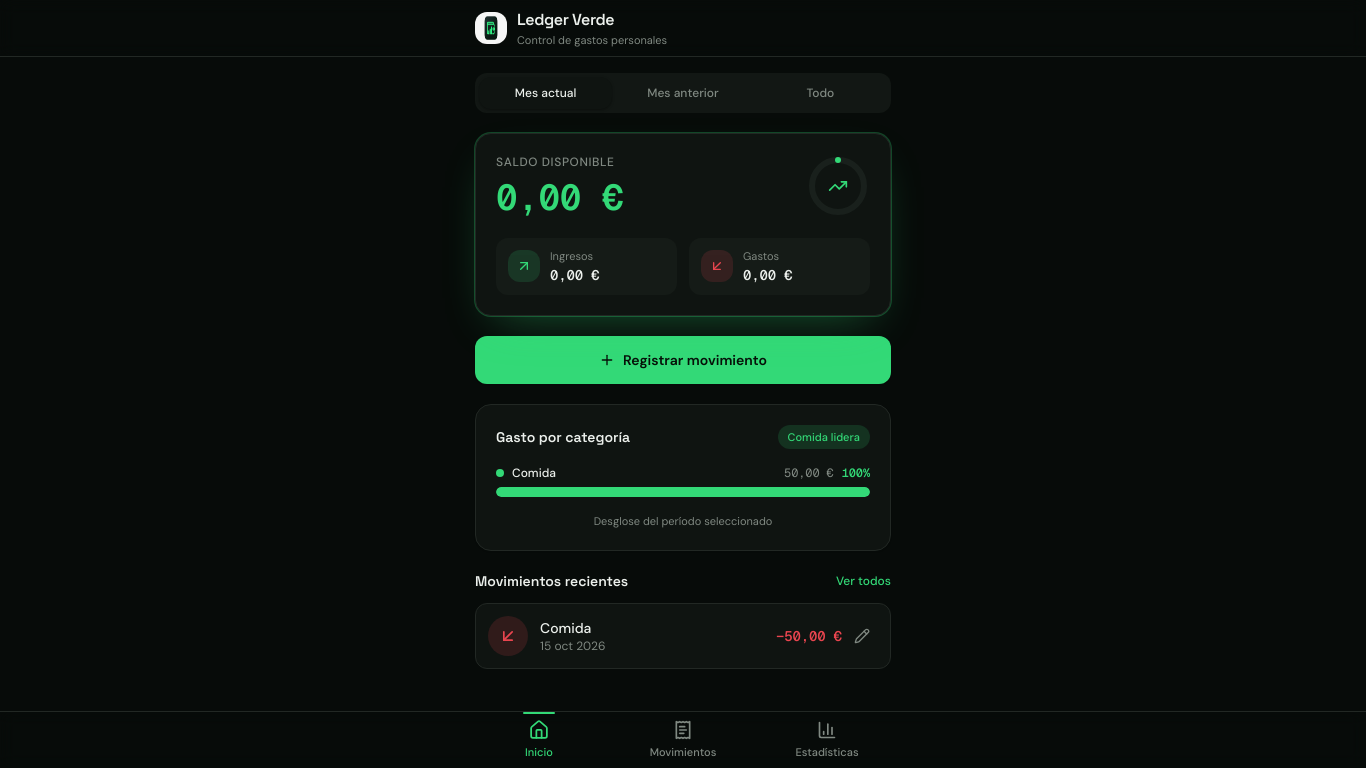
Scenario: Ledger Verde — flujo principal › navega entre Inicio, Movimientos y Estadísticas sin recargar
This screenshot has width=1366, height=768.
Expected: the element with test id "home.page" is shown, [475,73,891,668]
Click the button with test id "nav.movimientos.tab".
click(683, 740)  # box [611,712,755,767]
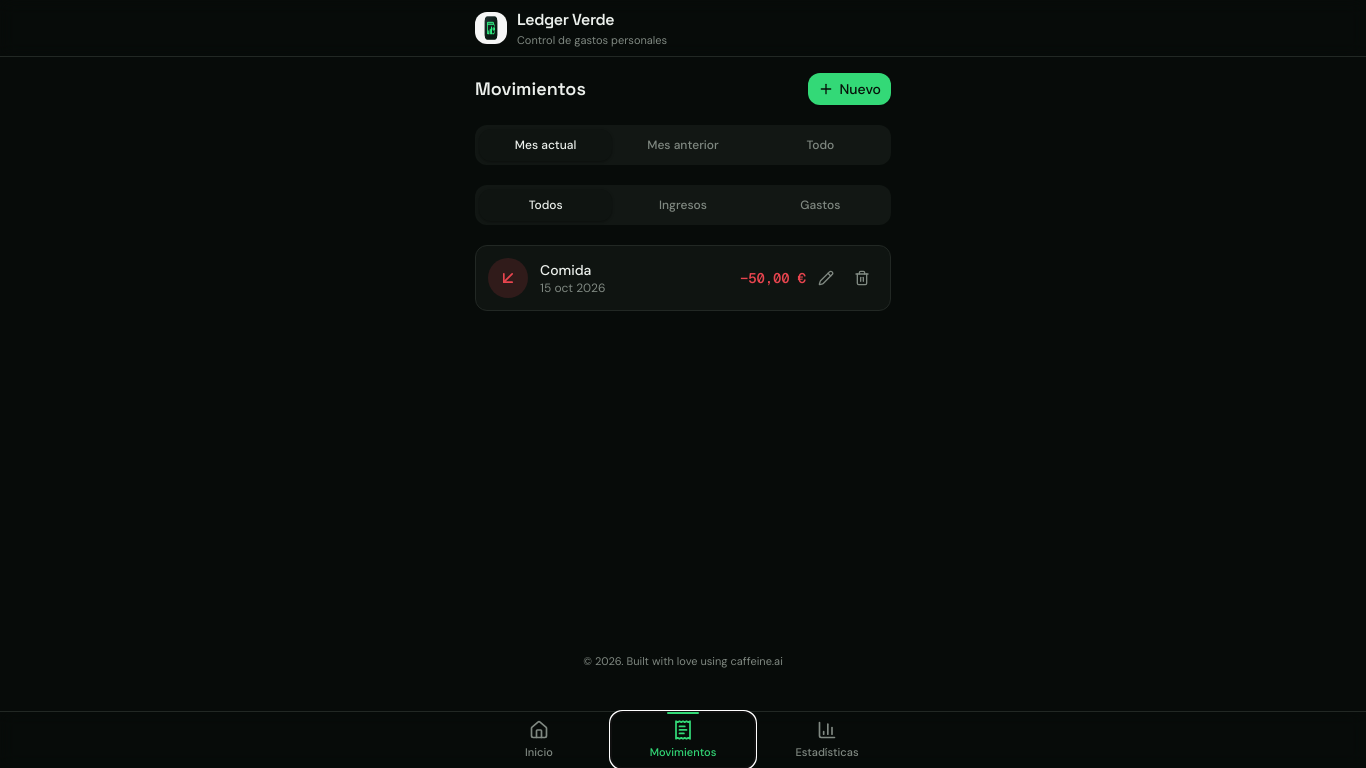
Now the list with test id "movements.list" is shown, box [475,245,891,311]
Click the button with test id "nav.estadisticas.tab".
click(827, 740)  # box [755,712,899,767]
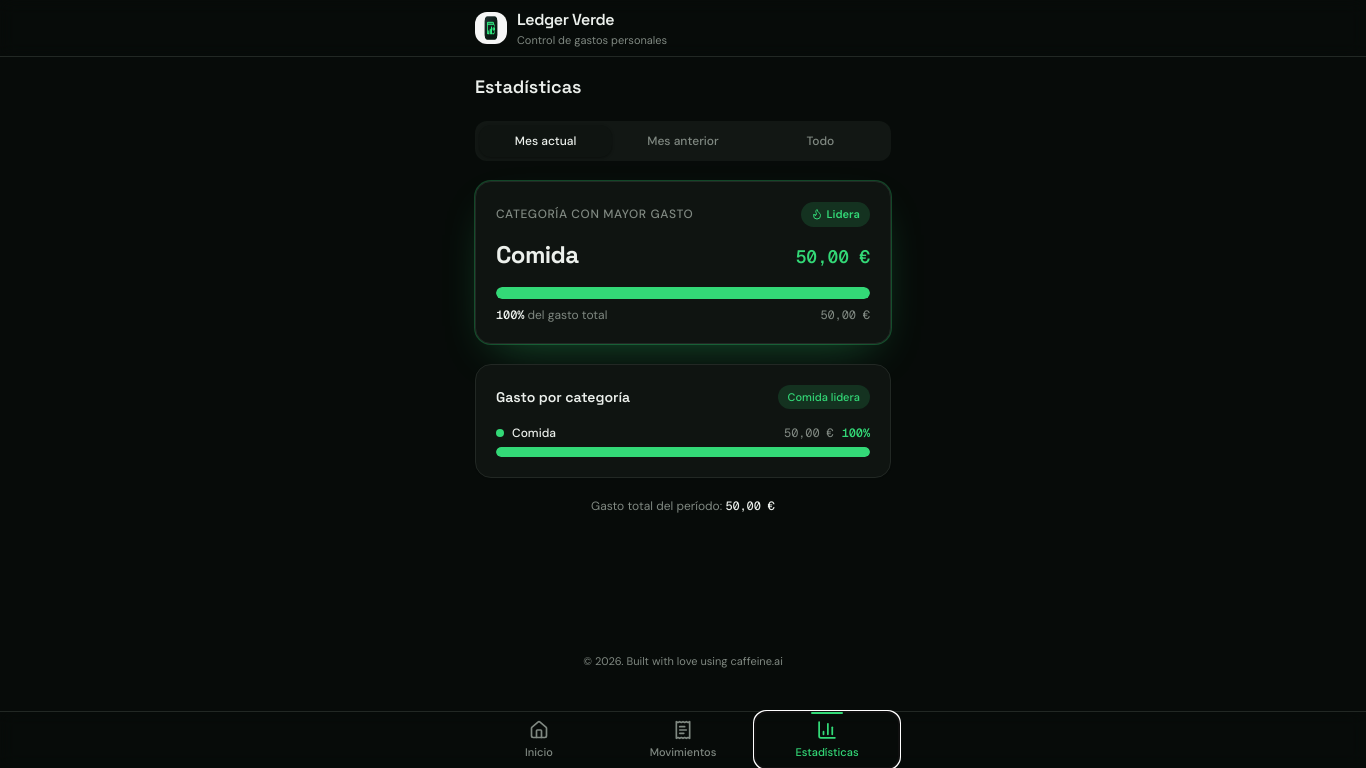
Now the element with test id "stats.page" is shown, box [475,73,891,514]
Click the button with test id "nav.inicio.tab".
click(539, 740)  # box [467,712,611,767]
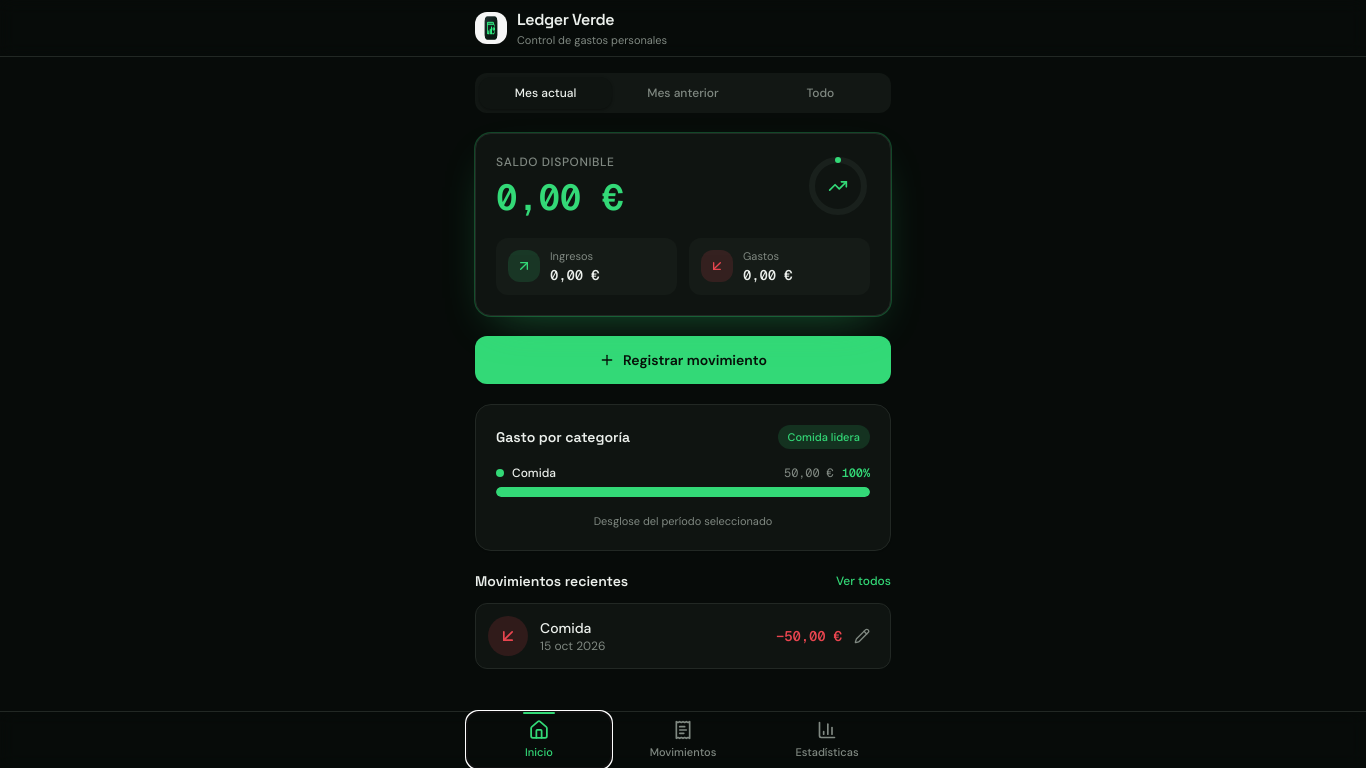
Now the element with test id "home.page" is shown, box [475,73,891,668]
